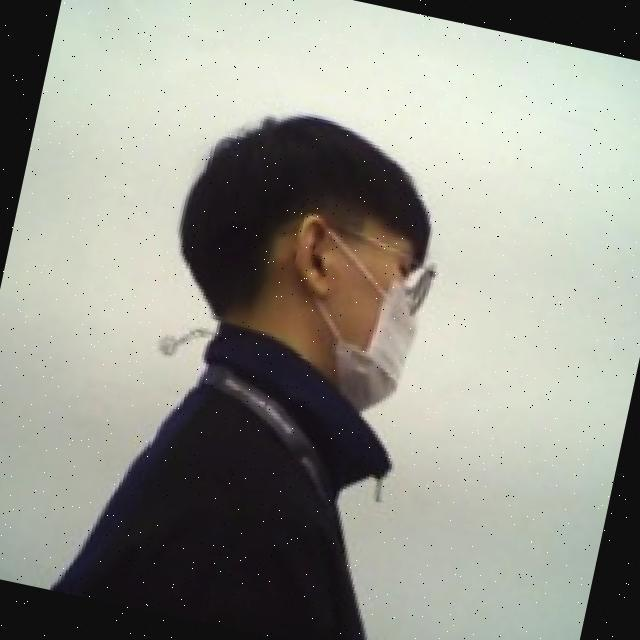mask: (256, 214, 446, 429)
no_gloves: (158, 84, 469, 331)
